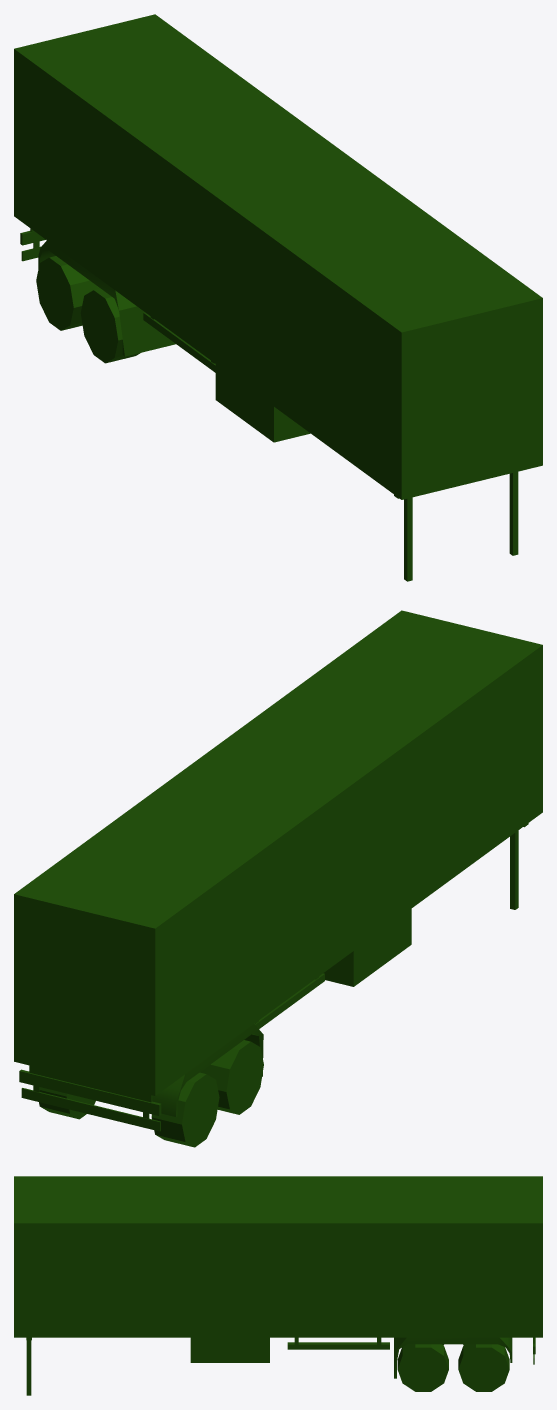
Rendered from Vehicle09A.fbx.
3 views of the same model, one above another, from view 1: azimuth 30°, elevation 25°; view 2: azimuth 150°, elevation 25°; view 3: azimuth 270°, elevation 25° (orthographic). The views are drawn at different scales.
Parts seen in each view (by area): view 1: Vehicle09A; view 2: Vehicle09A; view 3: Vehicle09A.
Part boxes in pixels (x1,y1,x2,y2): Vehicle09A: [14, 14, 542, 581]; Vehicle09A: [14, 610, 542, 1147]; Vehicle09A: [14, 1176, 542, 1395].
Bounding box in the file's own units: 1.64 × 2.8 × 7.57.
